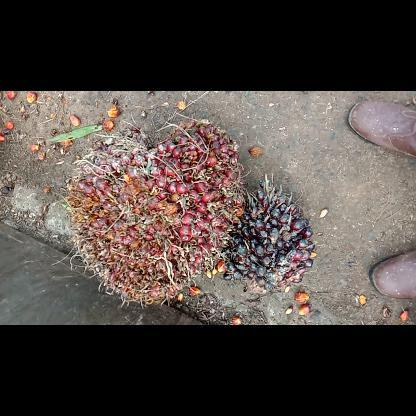TBS abnormal: (224, 182, 314, 294)
TBS masak: (69, 119, 241, 302)
